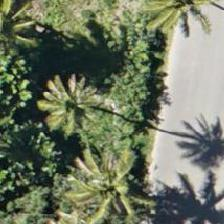coconut_tree: (22, 55, 112, 145), (53, 142, 143, 223), (138, 0, 223, 45)
